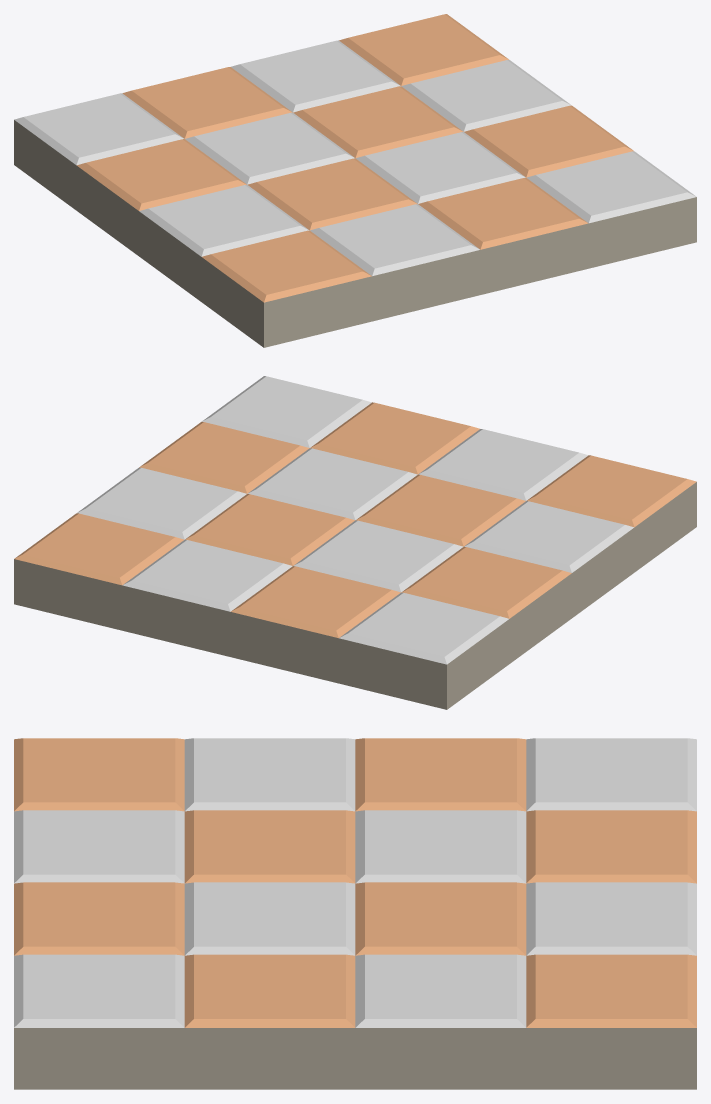
The model's file is Mesh_GroundCeramic_F2.fbx.
The picture shows the model from 3 angles, top to bottom: view 1: azimuth 30°, elevation 25°; view 2: azimuth 150°, elevation 25°; view 3: azimuth 270°, elevation 25°; orthographic projection. The views are drawn at different scales.
Parts seen in each view (by area): view 1: Mesh_GroundCeramic_F2; view 2: Mesh_GroundCeramic_F2; view 3: Mesh_GroundCeramic_F2.
Part boxes in pixels (<box>): Mesh_GroundCeramic_F2: <box>14,14,696,347</box>; Mesh_GroundCeramic_F2: <box>14,376,696,709</box>; Mesh_GroundCeramic_F2: <box>14,738,696,1089</box>.
Bounding box in the file's own units: 1 × 0.1082 × 1.
